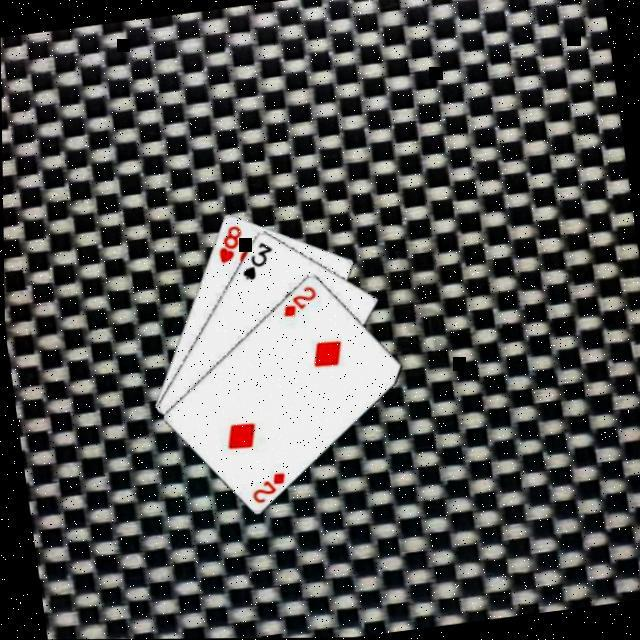2D: (274, 283, 319, 322), (243, 470, 288, 509)
3S: (232, 240, 276, 286)
8H: (210, 223, 246, 268)
